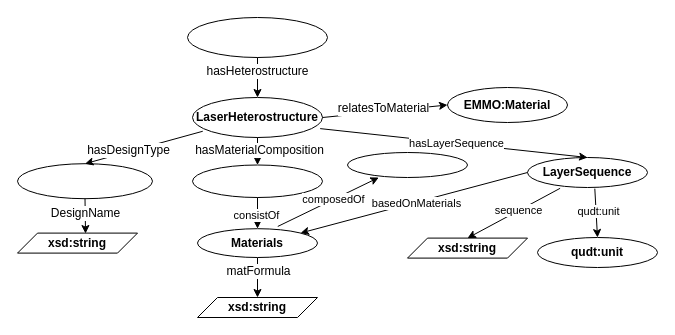
Image size: 675x335. Some labels were removed from this diagram. Here are the shapes that lost their labels. From the top down, the box of each, then its label:
(186, 16, 328, 58): QuantumCascadeLaser
(16, 163, 152, 199): DesignType
(192, 164, 322, 198): MaterialComposition
(346, 152, 468, 178): chEBI:Atom
